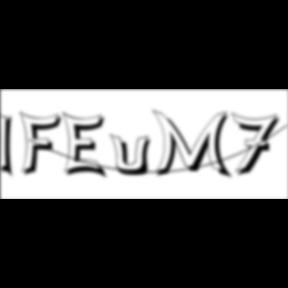7: (232, 111, 286, 179)
E: (62, 110, 112, 182)
F: (19, 110, 67, 178)
M: (151, 108, 235, 181)
l: (1, 108, 20, 182)
u: (110, 132, 158, 178)
